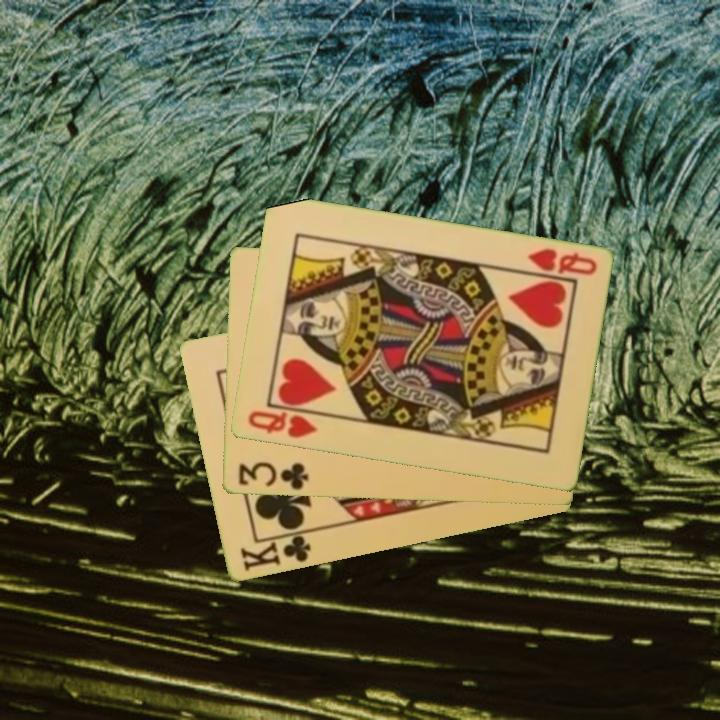3c: (234, 459, 311, 493)
Kc: (236, 528, 314, 575)
Qh: (244, 404, 327, 442), (523, 245, 599, 279)
